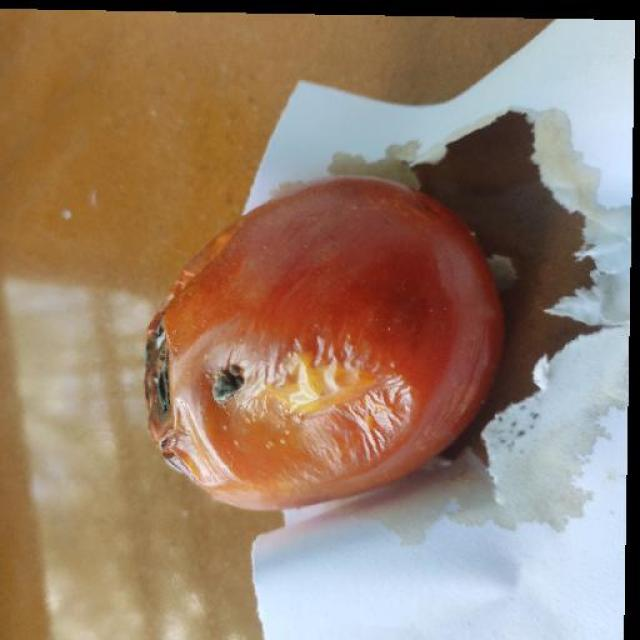Stale_tomato: (128, 220, 536, 510)
